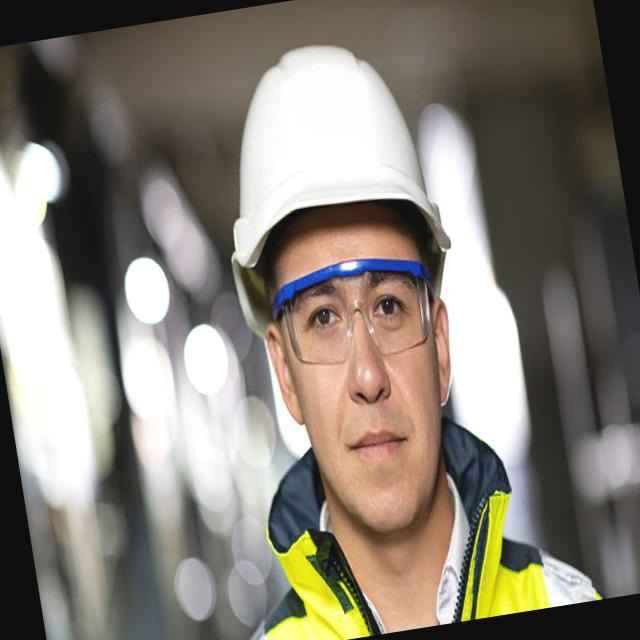goggles: (265, 238, 449, 386)
helmet: (197, 22, 458, 282)
no-vest: (229, 477, 594, 640)
